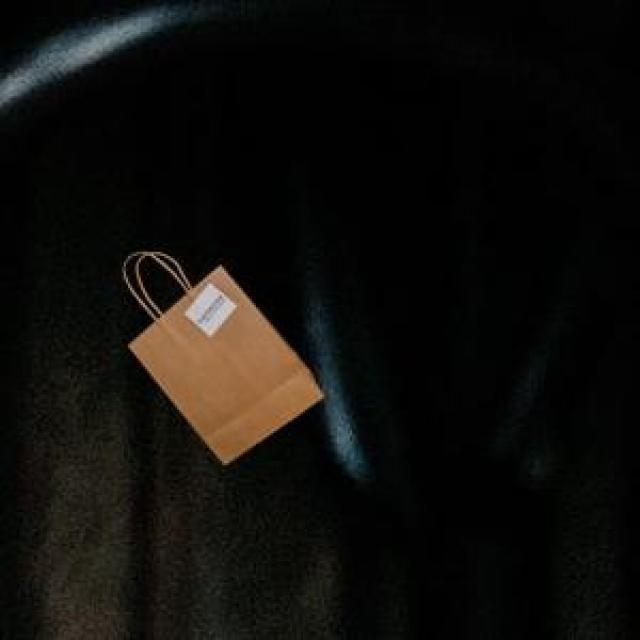paper: (126, 262, 320, 461)
